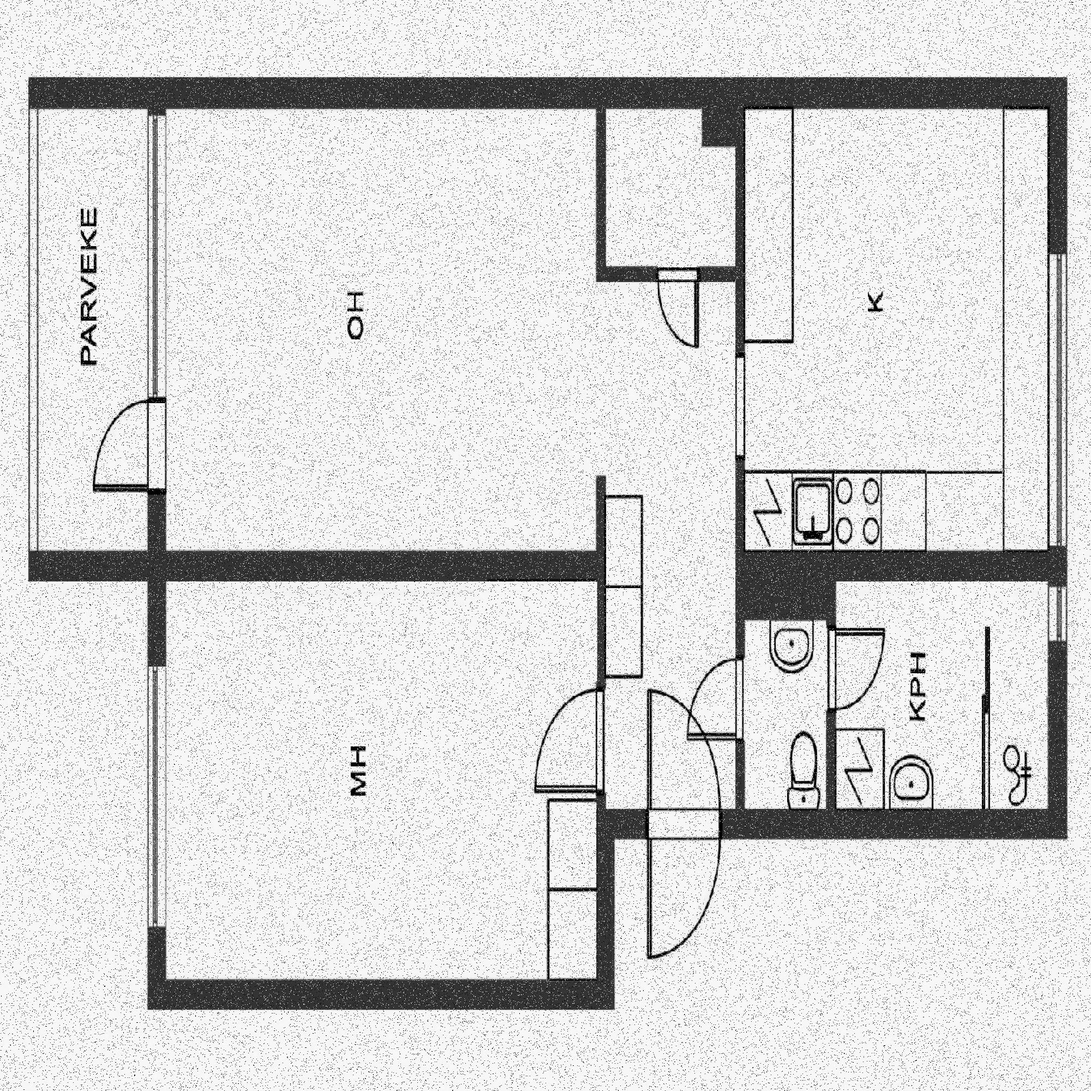wall: (148, 77, 1068, 109), (148, 76, 166, 1009), (1048, 77, 1068, 841), (598, 810, 1067, 841), (148, 980, 616, 1009), (165, 552, 606, 581), (827, 552, 1067, 582), (737, 551, 836, 619), (737, 266, 746, 841), (28, 77, 148, 107), (28, 552, 148, 581), (598, 810, 615, 1008), (702, 77, 745, 148), (827, 552, 836, 841), (597, 266, 746, 281), (598, 552, 606, 810), (597, 109, 606, 281), (737, 148, 746, 281), (597, 477, 606, 581)
